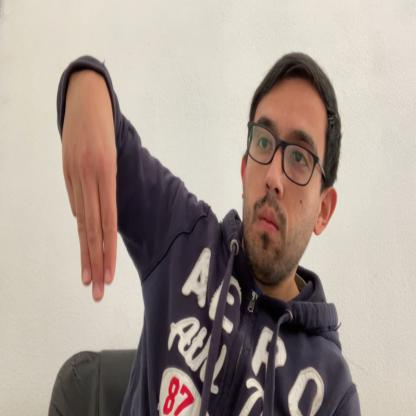M: (64, 88, 118, 301)
